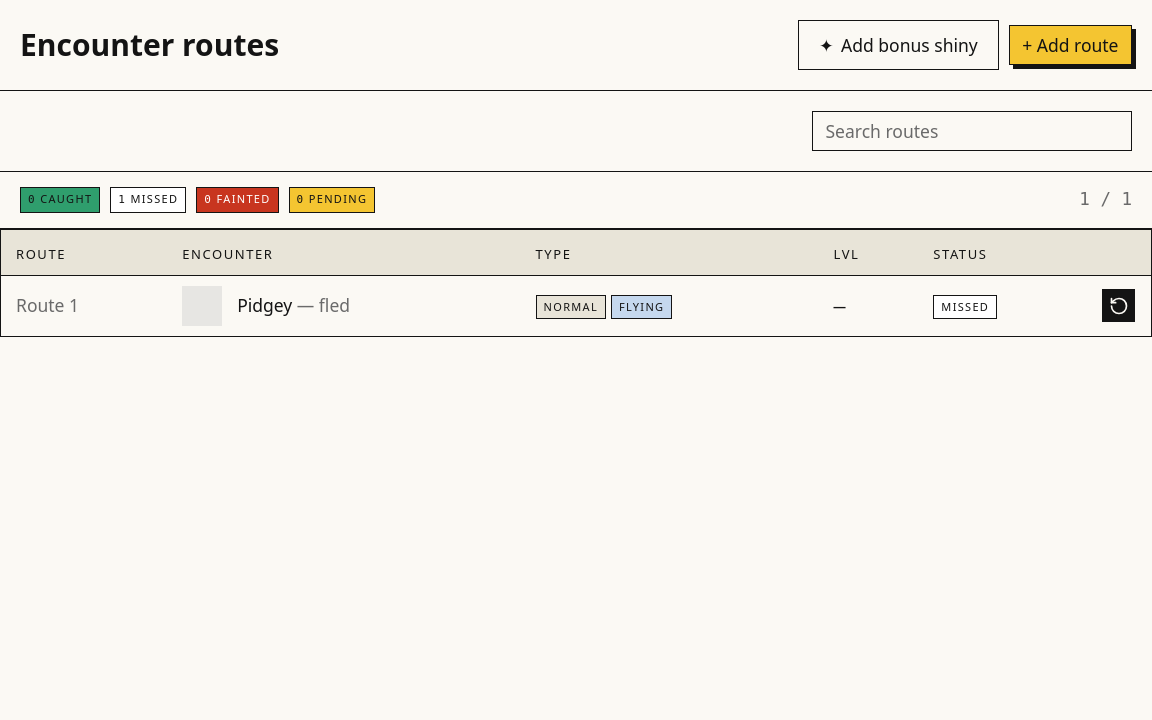
Bonus shiny dialog › opens with its own title, a locked Shiny box and no outcome control
Click the button "✦ Add bonus shiny" at (898, 45), box [798,20,999,70]
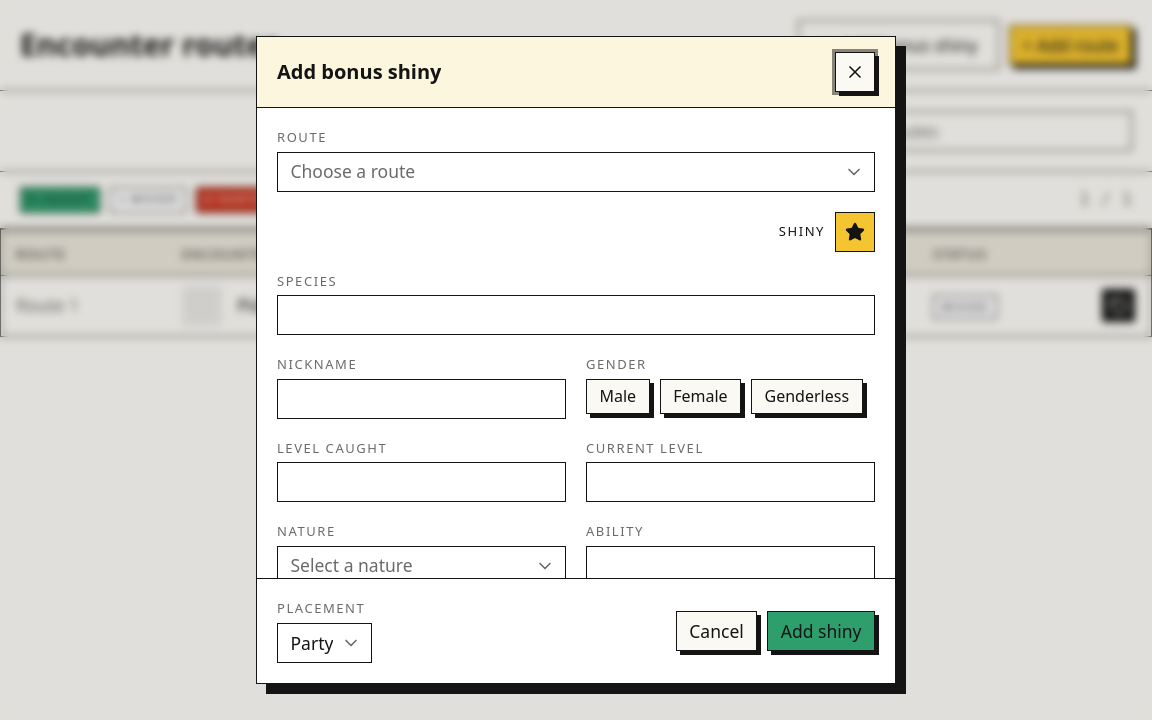
expect the heading "Add bonus shiny" is shown: met, box [277,57,442,87]
expect the button named "Shiny" is disabled: met, box [835,212,875,252]
